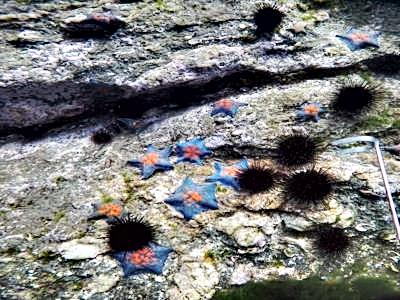urchin: (103, 216, 146, 245), (278, 135, 317, 165), (287, 171, 327, 199), (335, 84, 367, 108), (240, 167, 270, 189), (321, 227, 346, 251), (256, 6, 281, 27), (372, 52, 395, 73), (93, 132, 112, 144)
